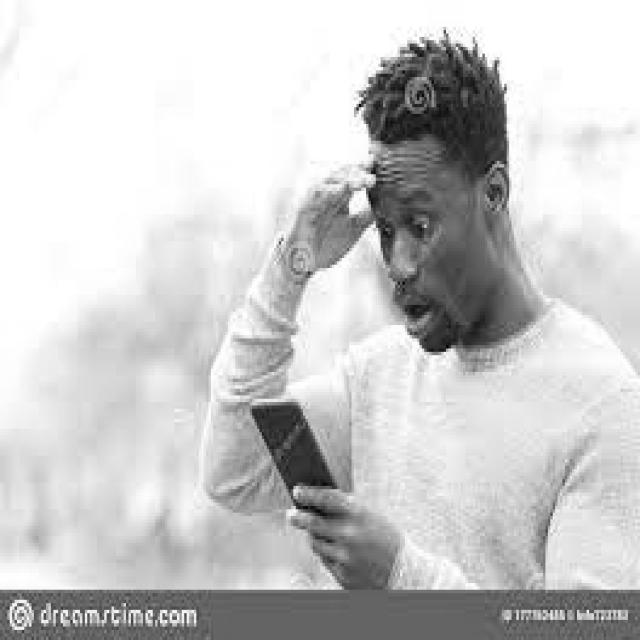No gun_phone: (255, 402, 342, 518)
